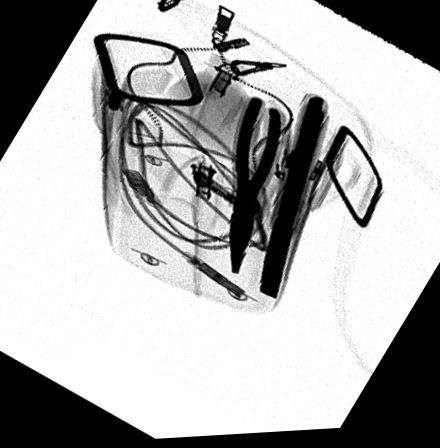Pliers: (254, 96, 328, 306), (227, 100, 283, 282)
